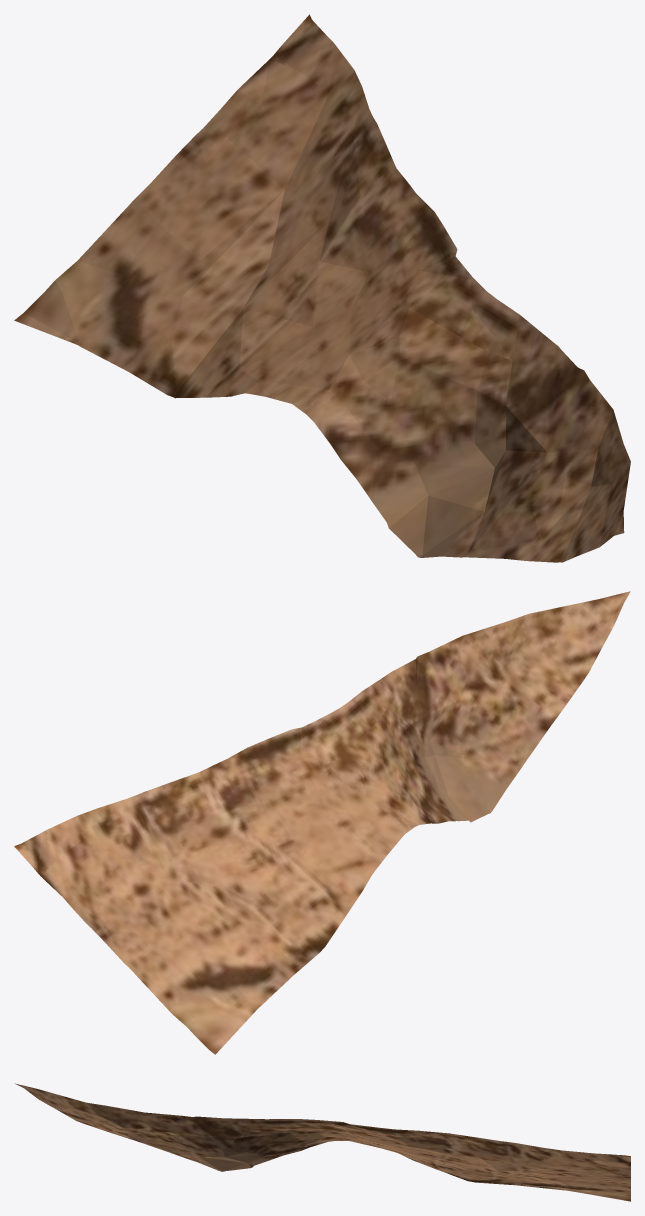
3 renders of one model, top to bottom at view 1: azimuth 30°, elevation 25°; view 2: azimuth 150°, elevation 25°; view 3: azimuth 270°, elevation 25°, orthographic. The views are drawn at different scales.
Bounding box in the file's own units: 0.3027 × 0.2291 × 1.08.
Materials: 1 (1 with a texture image).
